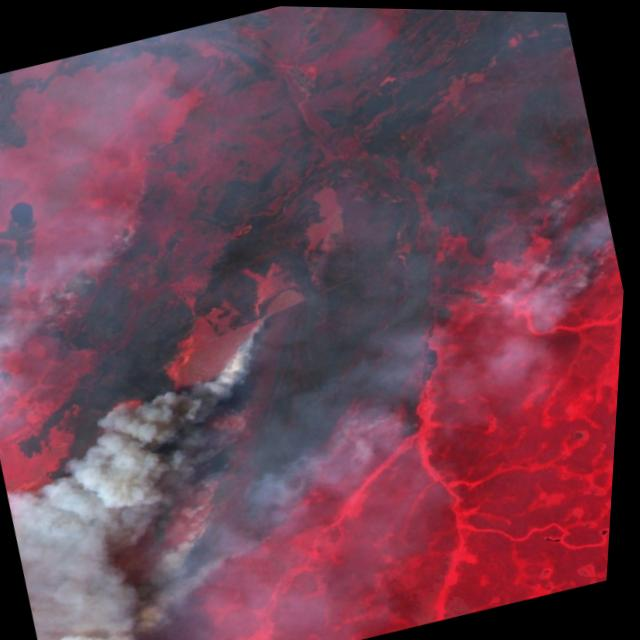fire: (0, 75, 499, 640), (499, 149, 632, 309)
